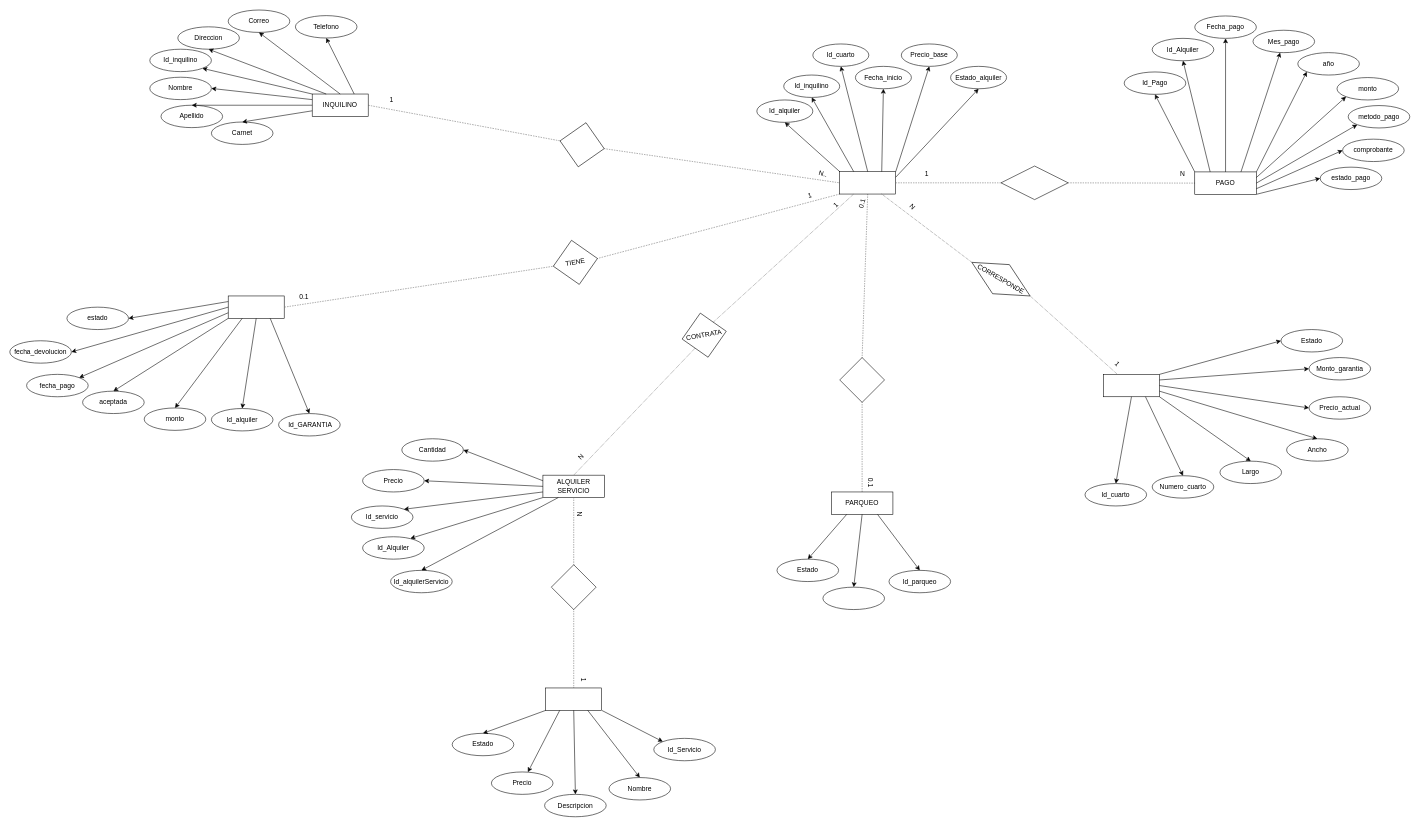
The diagram is 1420 pixels wide and 827 high, and some of its shapes have lost their labels. Here are the shapes that lost their labels. From the top down, the centre of each, then its label:
the point at 582,144: ALQUILA
the point at 867,182: ALQUILER
the point at 1034,182: Generá
the point at 256,306: GARANTIA
the point at 862,379: ASIGNA
the point at 1131,385: CUARTO
the point at 573,587: SE_ASIGNA
the point at 853,598: Numero
the point at 573,698: SERVICIO
